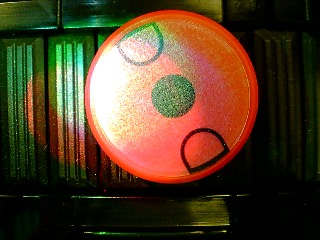BOHOMIPO2: (84, 9, 259, 183)
